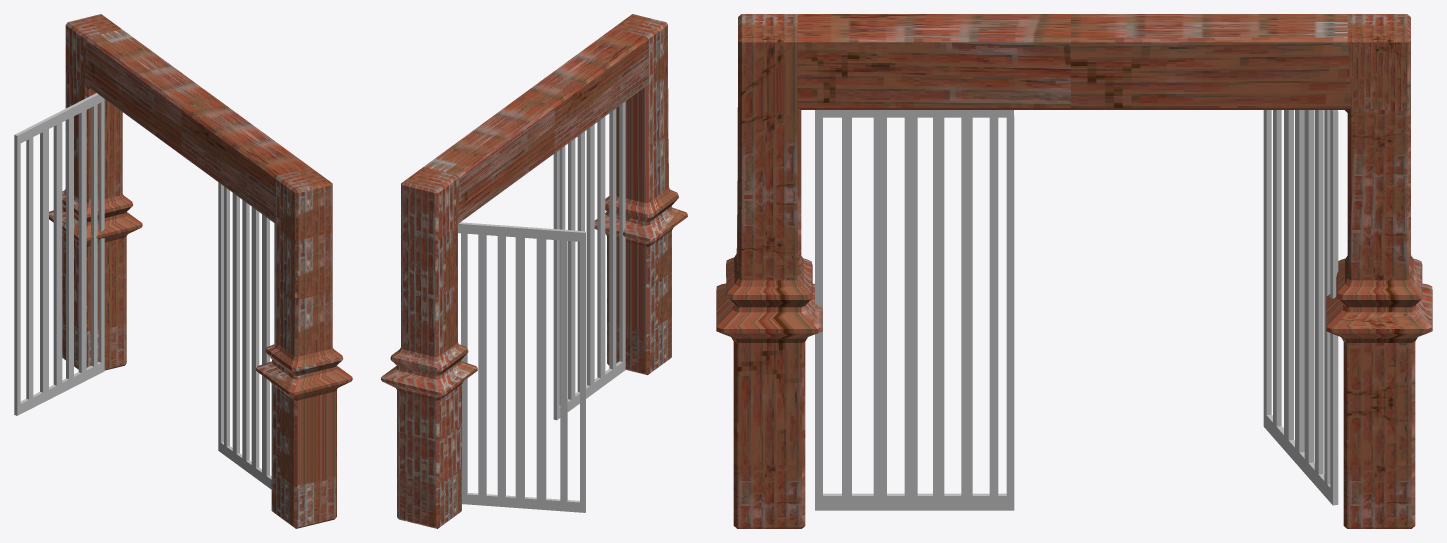
The model's file is gate.fbx.
3 renders of one model, left to right at view 1: azimuth 30°, elevation 25°; view 2: azimuth 150°, elevation 25°; view 3: azimuth 270°, elevation 25°, orthographic. The views are drawn at different scales.
Parts seen in each view (by area): view 1: Cube, Cube.001, Cube.003; view 2: Cube, Cube.001, Cube.003; view 3: Cube, Cube.003, Cube.001.
Boxes of the visible parts, x1,y1,x2,y2 form: Cube: (49,14,352,528); Cube.001: (14,93,104,415); Cube.003: (218,182,275,489); Cube: (381,14,687,528); Cube.001: (458,222,585,512); Cube.003: (553,101,625,420); Cube: (716,14,1432,528); Cube.003: (815,110,1014,510); Cube.001: (1263,110,1338,505).
Size of the model in its own units: 698 by 1503 by 1993.
